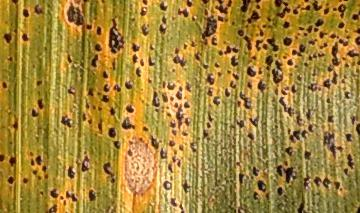tarspot: (107, 17, 125, 55), (200, 8, 218, 46), (65, 1, 86, 27), (278, 95, 296, 119), (172, 46, 188, 68), (271, 59, 284, 85), (238, 89, 252, 111), (173, 101, 184, 128), (330, 40, 340, 66), (266, 36, 281, 53), (149, 133, 163, 151), (121, 116, 136, 132), (102, 160, 116, 177), (274, 7, 292, 20), (59, 114, 74, 129), (247, 10, 262, 25), (291, 43, 306, 58), (243, 33, 254, 53), (214, 1, 229, 15), (283, 165, 294, 184), (256, 79, 267, 98), (80, 155, 91, 172), (322, 132, 336, 145), (289, 129, 301, 144), (206, 71, 217, 87), (337, 3, 348, 19), (328, 144, 338, 161), (65, 190, 78, 203), (239, 1, 252, 14), (180, 179, 191, 194), (345, 48, 360, 59), (140, 22, 151, 37), (264, 53, 275, 68), (346, 153, 355, 171), (296, 110, 305, 128), (322, 174, 332, 190), (176, 7, 189, 19), (321, 77, 332, 91), (151, 90, 160, 107), (90, 53, 100, 68), (159, 146, 169, 161), (129, 42, 141, 54), (161, 180, 173, 192), (248, 116, 260, 128), (110, 138, 121, 151), (256, 179, 267, 192), (192, 49, 203, 62), (246, 65, 257, 78), (46, 203, 60, 213), (88, 188, 97, 203), (2, 32, 13, 44), (33, 4, 44, 16), (99, 93, 110, 105), (295, 201, 306, 213), (311, 1, 323, 12), (124, 78, 134, 91), (49, 187, 59, 200), (313, 175, 323, 188), (229, 55, 239, 68), (189, 140, 199, 153), (97, 116, 104, 134), (124, 103, 135, 114), (66, 86, 77, 97), (166, 80, 177, 91), (314, 17, 325, 28), (107, 126, 117, 138), (102, 82, 112, 94), (303, 174, 311, 189), (235, 118, 245, 130), (158, 23, 168, 35), (254, 39, 264, 51), (201, 127, 209, 142), (206, 108, 214, 123), (279, 85, 291, 95), (331, 69, 338, 86), (147, 54, 156, 67), (351, 9, 360, 22), (337, 38, 350, 47), (135, 65, 143, 79), (67, 165, 75, 179), (170, 148, 178, 162), (161, 90, 169, 104), (304, 108, 312, 122), (255, 24, 263, 38), (94, 42, 104, 53), (6, 175, 16, 186), (283, 145, 293, 156), (282, 36, 293, 46), (318, 30, 329, 40), (300, 3, 311, 13), (21, 7, 30, 19), (8, 155, 17, 167), (169, 196, 178, 208), (251, 166, 260, 178), (303, 149, 312, 161), (139, 6, 148, 18), (167, 161, 174, 176), (66, 52, 74, 65), (210, 34, 218, 47), (184, 80, 192, 93), (20, 32, 30, 42), (112, 83, 122, 93), (307, 82, 317, 92), (304, 24, 314, 34), (30, 107, 39, 118), (86, 87, 95, 98), (344, 132, 353, 143), (246, 131, 255, 142), (212, 95, 221, 106), (159, 1, 168, 12), (252, 1, 263, 10), (175, 90, 184, 101), (249, 53, 258, 64), (37, 97, 44, 111), (276, 164, 283, 178), (349, 114, 356, 128), (131, 53, 139, 65), (160, 14, 168, 26), (80, 110, 88, 122), (307, 39, 319, 47), (292, 3, 300, 15), (237, 172, 244, 185), (229, 80, 238, 90), (236, 28, 245, 38), (180, 129, 190, 138), (183, 100, 192, 110), (323, 6, 332, 16), (319, 41, 329, 50), (95, 25, 103, 36), (138, 57, 146, 68), (34, 155, 42, 166), (223, 87, 231, 98), (352, 26, 360, 37), (183, 116, 191, 127), (111, 57, 117, 71), (109, 105, 116, 117), (354, 35, 360, 49), (84, 96, 90, 110), (206, 86, 213, 98), (341, 73, 348, 85), (337, 21, 346, 30), (286, 58, 295, 67), (147, 42, 156, 51), (101, 70, 109, 80), (252, 191, 260, 201), (276, 186, 284, 196), (300, 129, 308, 139), (223, 46, 231, 56), (261, 42, 269, 52), (168, 120, 176, 130), (282, 20, 290, 30), (290, 83, 298, 93), (265, 14, 273, 24), (190, 13, 198, 23), (12, 119, 19, 130), (178, 202, 185, 213), (333, 180, 340, 191), (342, 166, 349, 177), (307, 123, 314, 134), (140, 125, 151, 132), (176, 158, 183, 169), (217, 14, 224, 25), (355, 121, 360, 136), (85, 23, 94, 31), (31, 168, 39, 177), (336, 145, 344, 154), (326, 115, 335, 123), (190, 39, 198, 48), (231, 46, 240, 54), (231, 72, 239, 81), (167, 139, 175, 148), (177, 142, 185, 151), (146, 76, 154, 85), (130, 15, 138, 24), (316, 51, 325, 59), (311, 66, 317, 78), (2, 80, 9, 90), (344, 90, 351, 100), (205, 120, 212, 130), (273, 1, 283, 8), (273, 86, 280, 96), (265, 25, 275, 32), (161, 79, 167, 90), (35, 79, 43, 87), (96, 104, 104, 112), (202, 63, 210, 71), (329, 32, 337, 40), (272, 123, 280, 131), (41, 164, 48, 173), (126, 147, 133, 156), (296, 25, 305, 32), (235, 160, 242, 169), (31, 62, 38, 71), (29, 157, 35, 167), (257, 65, 263, 75), (21, 177, 29, 184), (86, 117, 93, 125), (213, 61, 220, 69), (225, 1, 233, 8), (170, 129, 177, 137), (176, 85, 184, 92), (165, 111, 172, 119), (153, 107, 161, 114), (170, 15, 178, 22), (160, 103, 165, 114), (354, 204, 360, 213), (184, 1, 193, 7), (246, 80, 252, 89), (326, 64, 332, 73), (307, 53, 312, 63), (59, 194, 66, 201), (43, 173, 50, 180), (36, 174, 43, 181), (127, 139, 134, 146), (302, 61, 309, 68), (331, 6, 338, 13), (312, 27, 319, 34), (302, 32, 309, 39), (236, 206, 243, 213), (28, 149, 34, 157), (200, 1, 212, 5), (91, 104, 97, 112), (182, 42, 188, 50), (217, 49, 223, 57), (138, 135, 144, 143), (281, 1, 289, 7), (325, 96, 331, 104), (311, 52, 317, 60), (1, 153, 6, 162), (6, 56, 13, 62), (62, 199, 68, 206), (216, 71, 223, 77), (168, 94, 174, 101), (224, 17, 230, 24), (296, 74, 302, 81), (344, 62, 350, 69), (170, 67, 176, 74), (286, 127, 291, 135), (141, 1, 149, 6), (231, 19, 236, 27), (273, 21, 278, 29), (10, 1, 19, 5), (38, 190, 44, 196), (273, 52, 279, 58), (110, 177, 115, 184), (291, 174, 296, 181), (282, 54, 287, 61), (265, 65, 270, 72), (339, 56, 346, 61), (356, 59, 360, 67), (8, 140, 13, 146), (232, 207, 237, 213), (165, 105, 170, 110), (100, 1, 107, 4), (262, 22, 266, 27), (303, 1, 309, 4)
